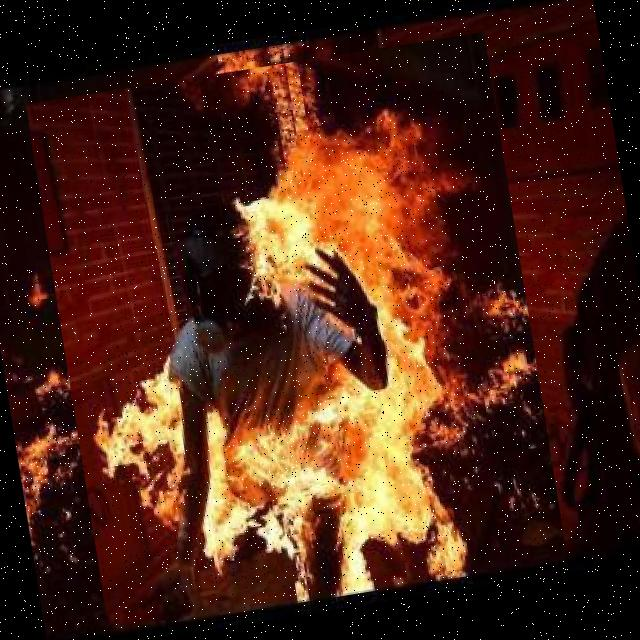fire: (26, 32, 569, 640)
